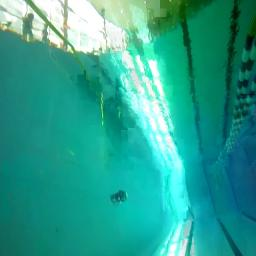Full: (110, 189, 128, 205)
